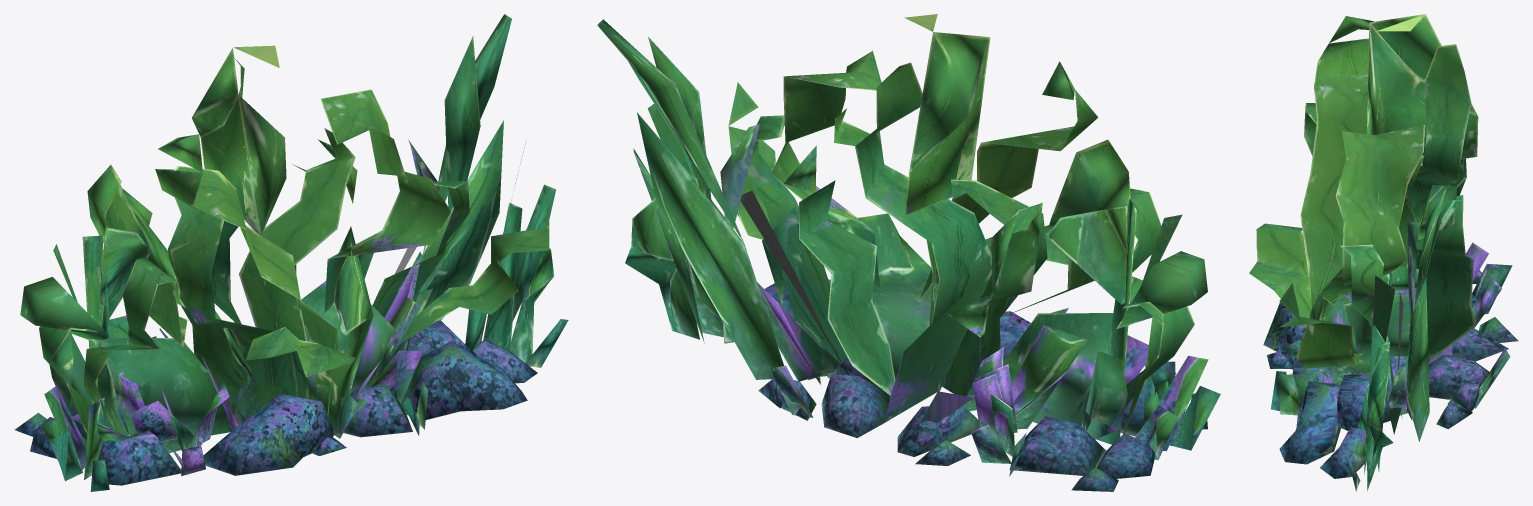
The model's file is kelp.glb.
3 renders of one model, left to right at view 1: azimuth 30°, elevation 25°; view 2: azimuth 150°, elevation 25°; view 3: azimuth 270°, elevation 25°, orthographic. The views are drawn at different scales.
Bounding box in the file's own units: 1 × 0.6621 × 0.4609.
1 material, 1 textured.
